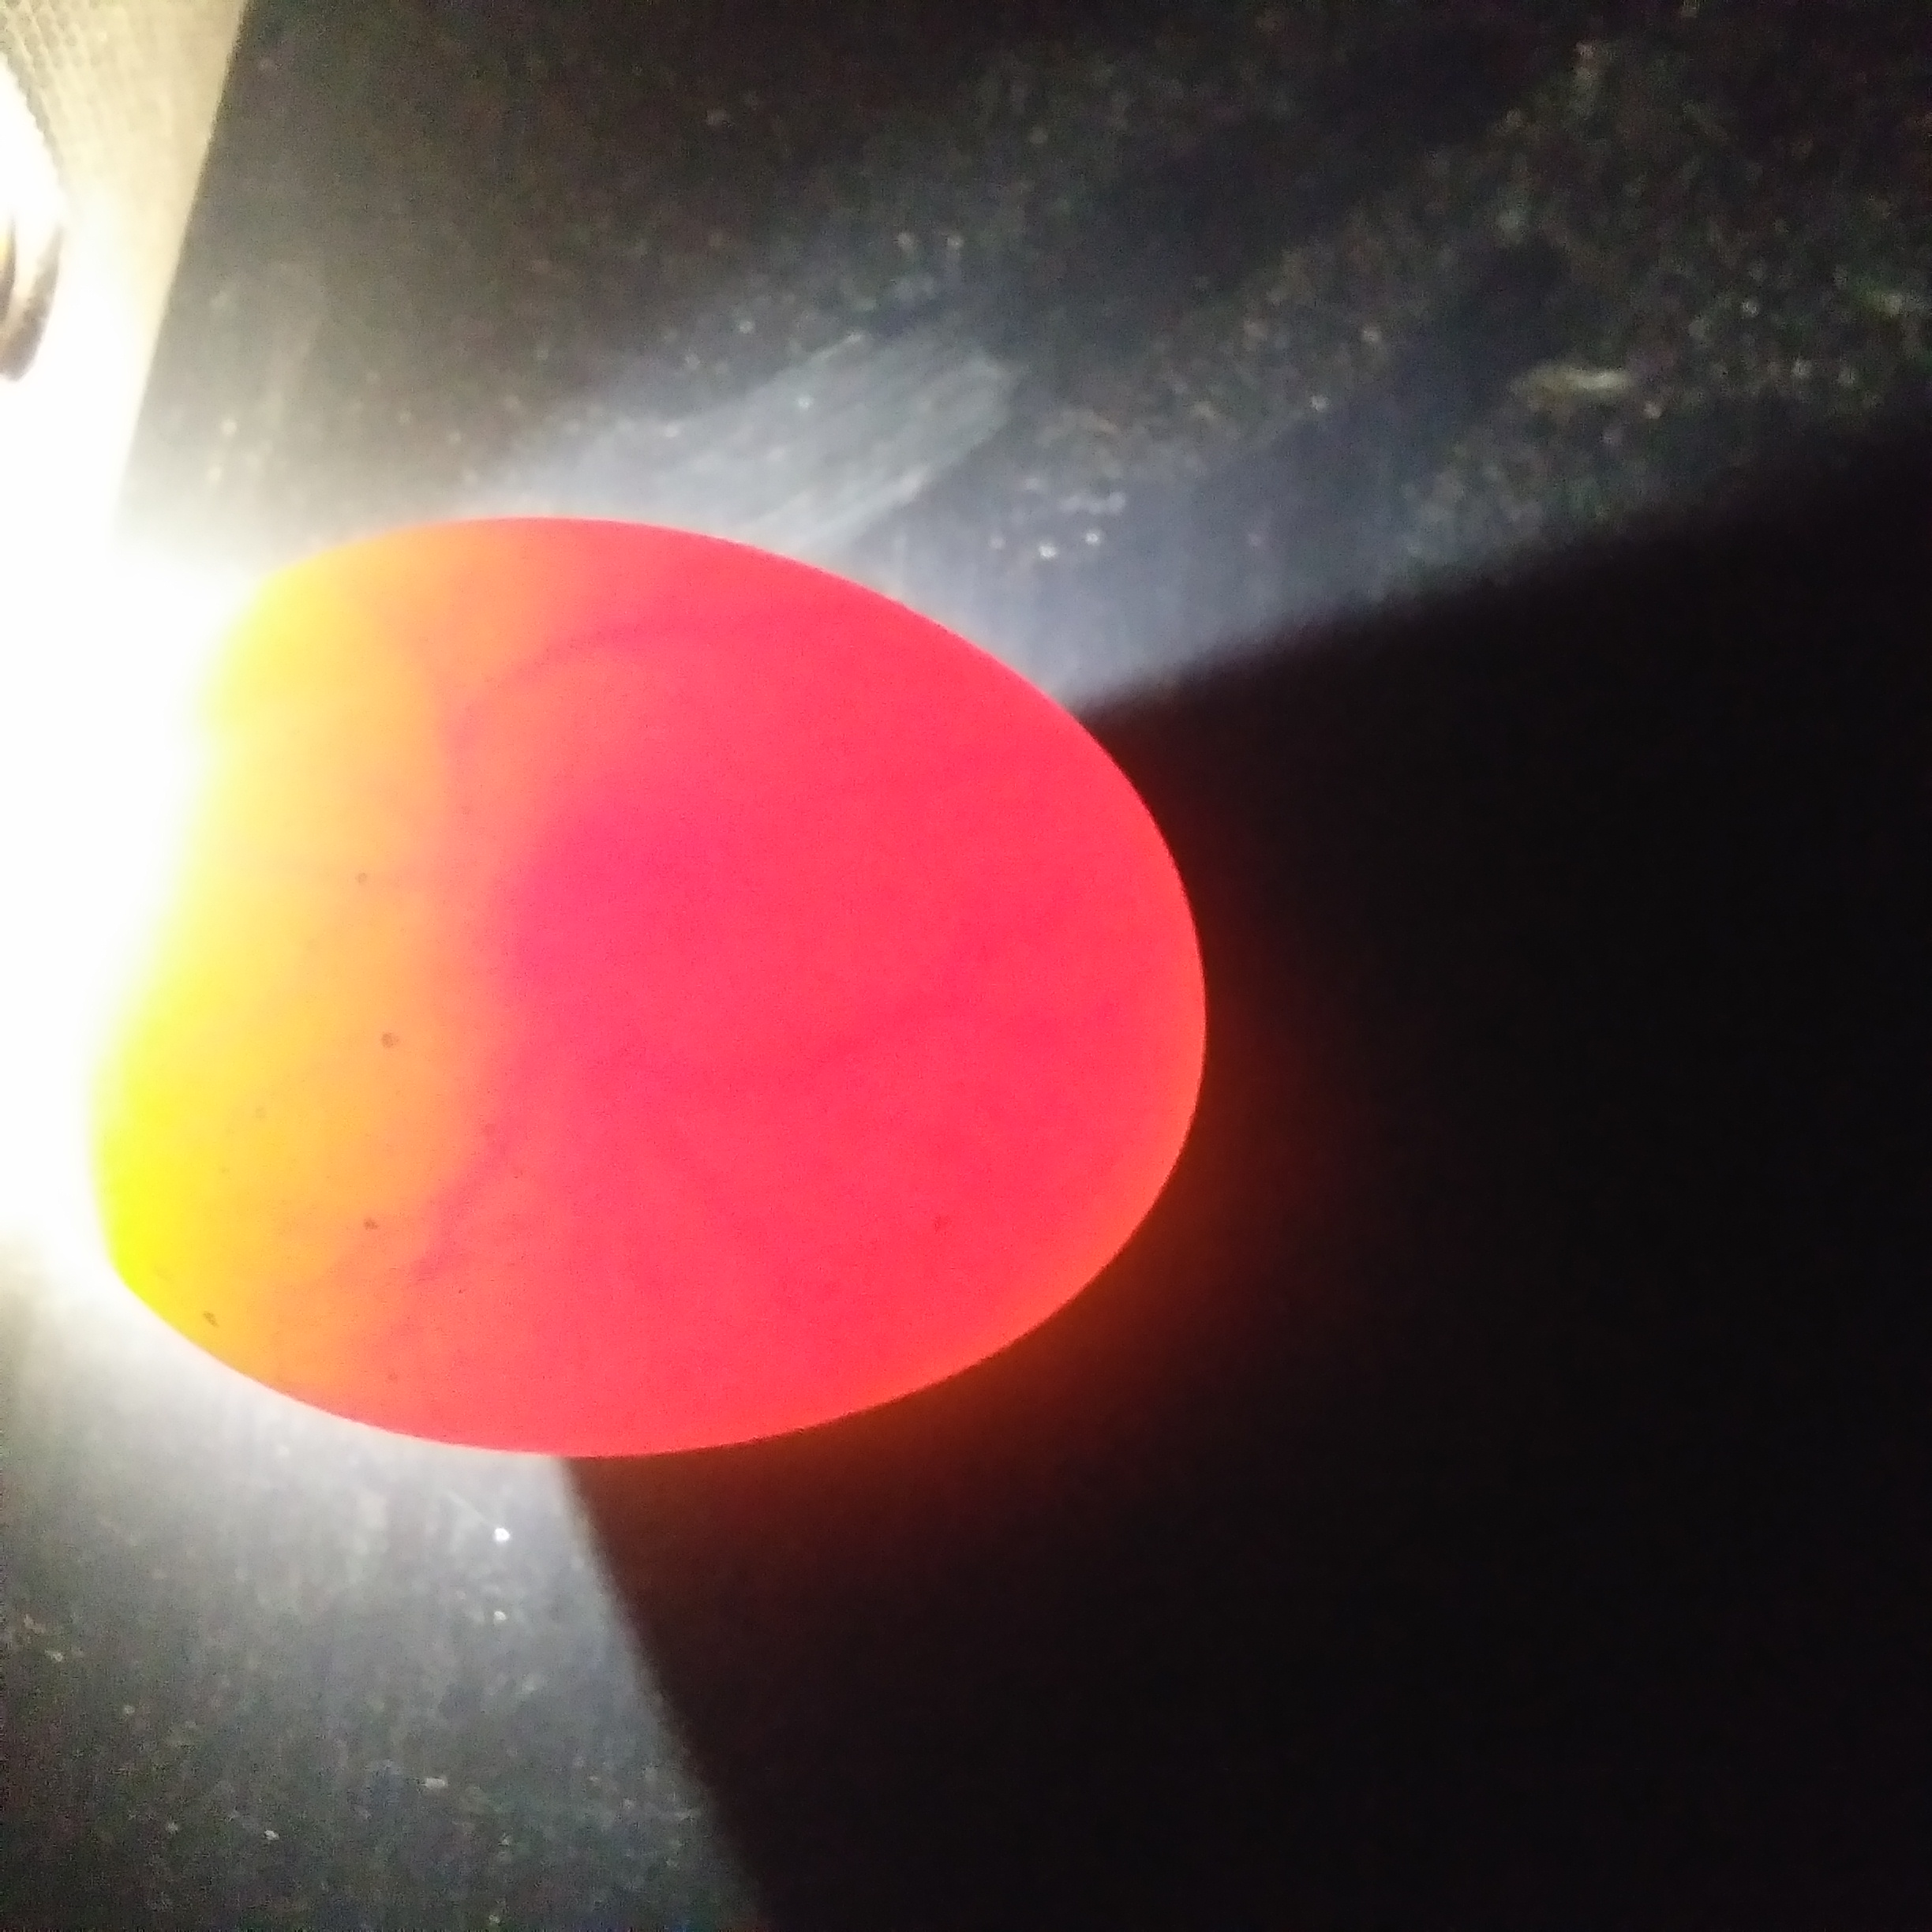bloodcell: (373, 1085, 947, 1346), (327, 584, 683, 819)
embryo: (433, 878, 644, 1051)
